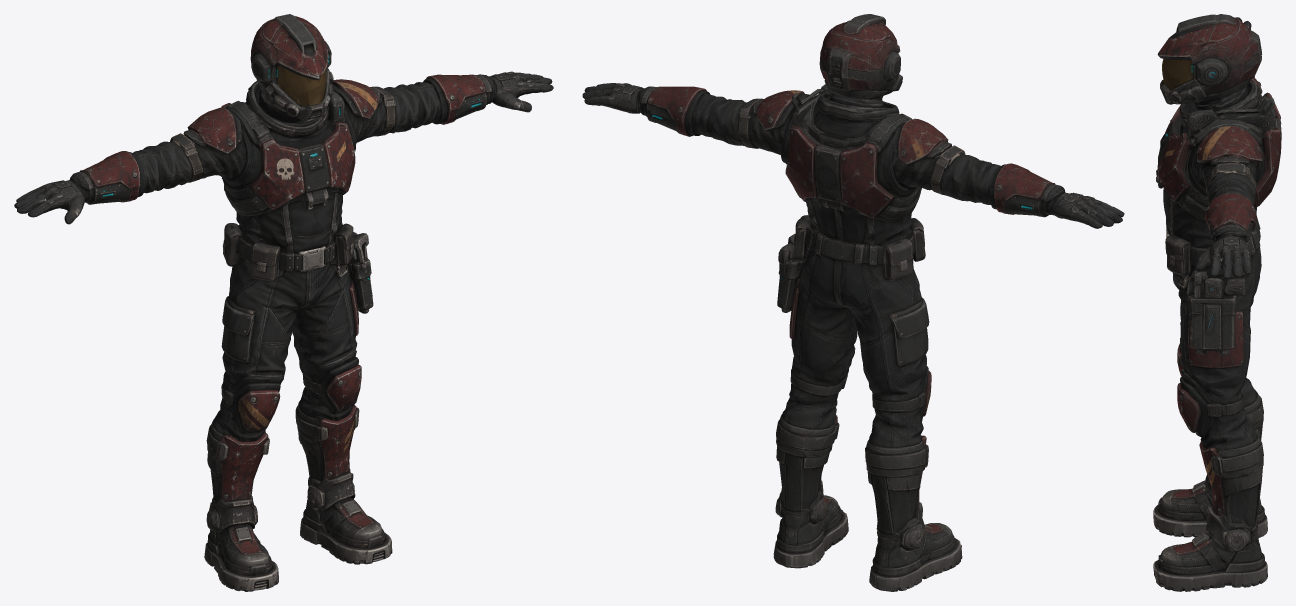
The model's file is selene-adjutant.glb.
3 renders of one model, left to right at view 1: azimuth 30°, elevation 25°; view 2: azimuth 150°, elevation 25°; view 3: azimuth 270°, elevation 25°, orthographic.
Visible parts, largest first — view 1: mesh_node; view 2: mesh_node; view 3: mesh_node.
Boxes of the visible parts, left/top/right/bottom form: mesh_node: left=14, top=14, right=553, bottom=591; mesh_node: left=582, top=14, right=1124, bottom=591; mesh_node: left=1153, top=14, right=1281, bottom=591.
Bounding box in the file's own units: 1.9 × 1.83 × 0.3956.
1 material, 1 textured.
